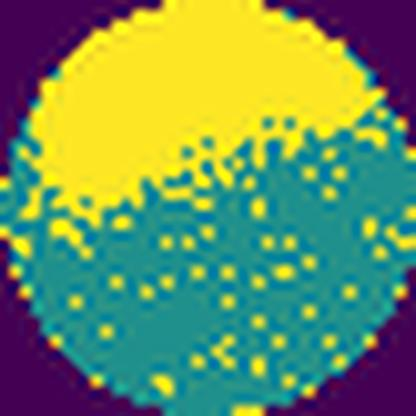Edge-Loc: (33, 0, 389, 231)
